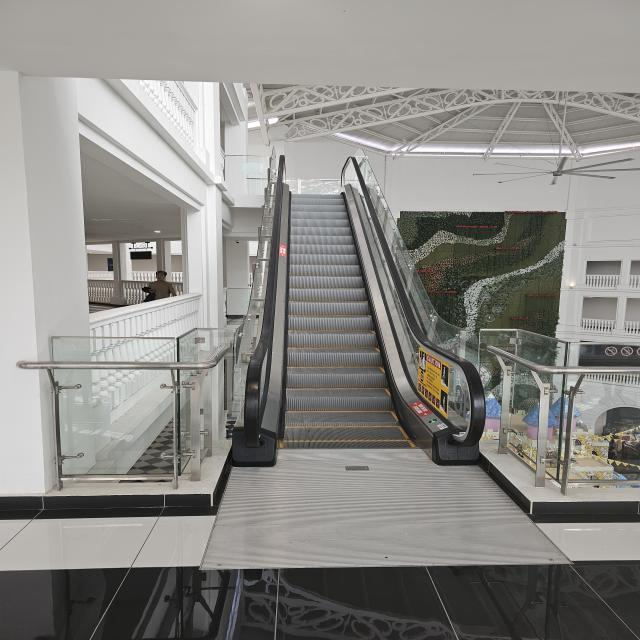escalator: (234, 144, 453, 471)
footpath: (7, 496, 640, 640)
person: (146, 270, 178, 301)
